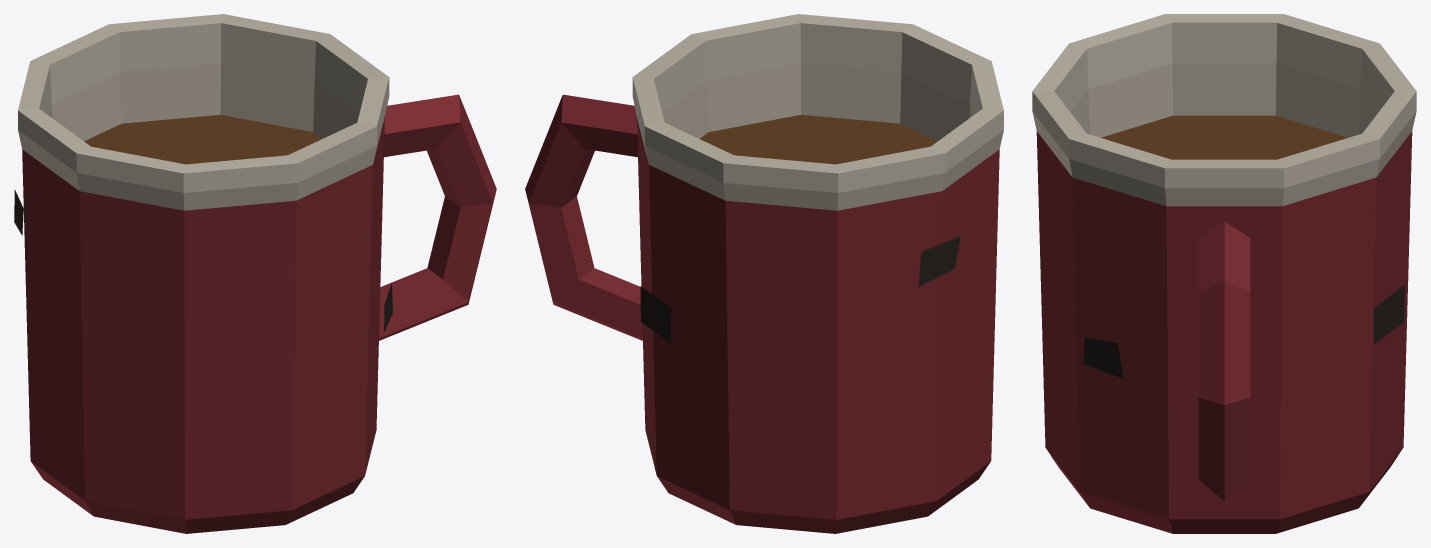
The model's file is tl_prop_mug_red_v01.glb.
The picture shows the model from 3 angles, left to right: view 1: azimuth 30°, elevation 25°; view 2: azimuth 150°, elevation 25°; view 3: azimuth 270°, elevation 25°; orthographic projection.
Visible parts, largest first — view 1: tl_prop_mug_red_v01; view 2: tl_prop_mug_red_v01; view 3: tl_prop_mug_red_v01.
Boxes of the visible parts, x1,y1,x2,y2 form: tl_prop_mug_red_v01: [14, 14, 496, 533]; tl_prop_mug_red_v01: [525, 14, 1003, 533]; tl_prop_mug_red_v01: [1032, 14, 1416, 533].
Size of the model in its own units: 0.1217 by 0.095 by 0.088.
